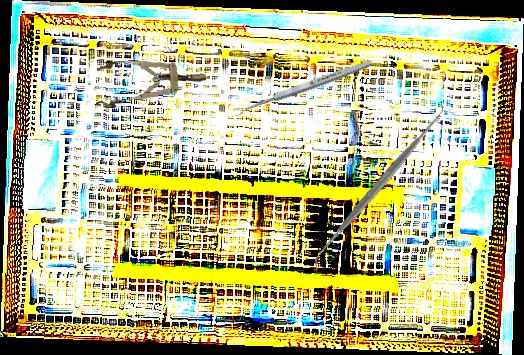Spatula Surgical: (300, 99, 457, 274)
Speculum: (93, 55, 208, 109)
Surgical Spoon: (232, 57, 374, 118)
